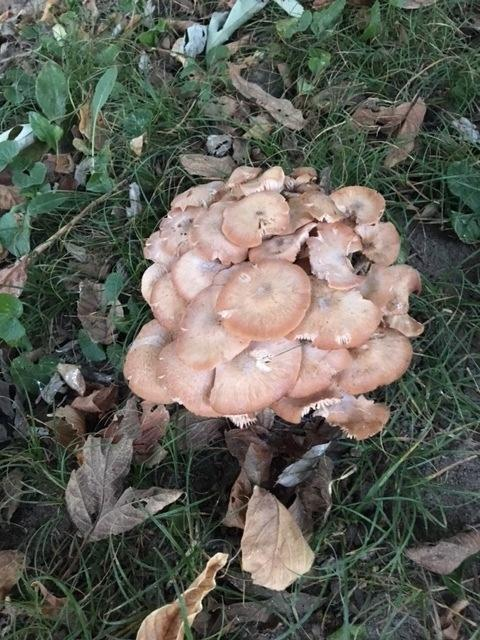edible_mushroom: (122, 163, 424, 439)
